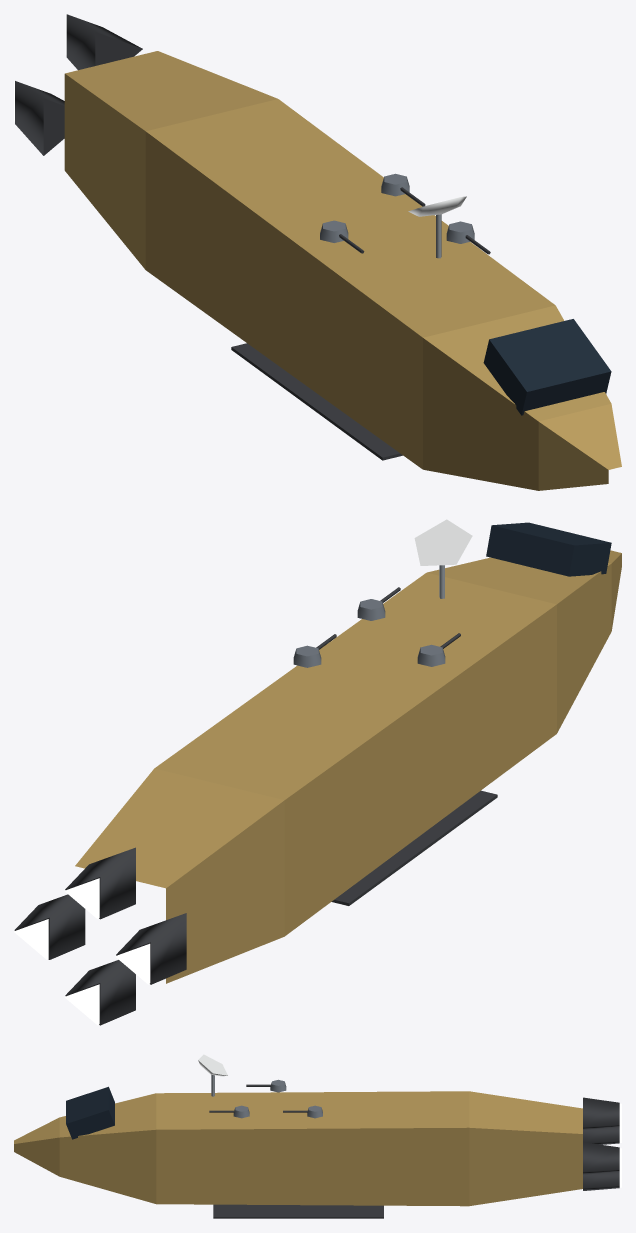
The model's file is space_ship_transport_mk7_lod2.glb.
3 views of the same model, one above another, from view 1: azimuth 30°, elevation 25°; view 2: azimuth 150°, elevation 25°; view 3: azimuth 270°, elevation 25° (orthographic). The views are drawn at different scales.
Visible parts, largest first — view 1: body, hangar_door, engine_2, engine_1, antenna_0; view 2: body, engine_2, engine_1, engine_0, engine_3, hangar_door, antenna_0; view 3: body, hangar_door, engine_1, engine_0, engine_3, engine_2, antenna_0, turret_0, turret_1, turret_2.
Boxes of the visible parts, <box> form: body: <box>64,51,621,490</box>; hangar_door: <box>231,343,402,460</box>; engine_2: <box>14,80,64,155</box>; engine_1: <box>65,14,142,70</box>; antenna_0: <box>408,196,466,258</box>; body: <box>75,522,621,983</box>; engine_2: <box>115,913,186,984</box>; engine_1: <box>65,847,135,919</box>; engine_0: <box>14,894,85,959</box>; engine_3: <box>65,960,135,1025</box>; hangar_door: <box>331,790,497,905</box>; antenna_0: <box>414,519,472,598</box>; body: <box>14,1086,582,1206</box>; hangar_door: <box>213,1204,383,1218</box>; engine_1: <box>583,1097,621,1129</box>; engine_0: <box>583,1142,621,1174</box>; engine_3: <box>583,1171,621,1190</box>; engine_2: <box>583,1126,621,1144</box>; antenna_0: <box>198,1054,227,1096</box>; turret_0: <box>209,1105,249,1118</box>; turret_1: <box>246,1079,286,1092</box>; turret_2: <box>283,1105,322,1118</box>.
Size of the model in its own units: 5.36 by 8.73 by 33.08.
